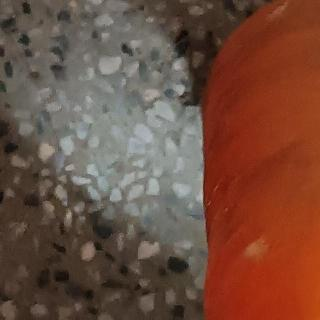carrot: (193, 0, 320, 320)
